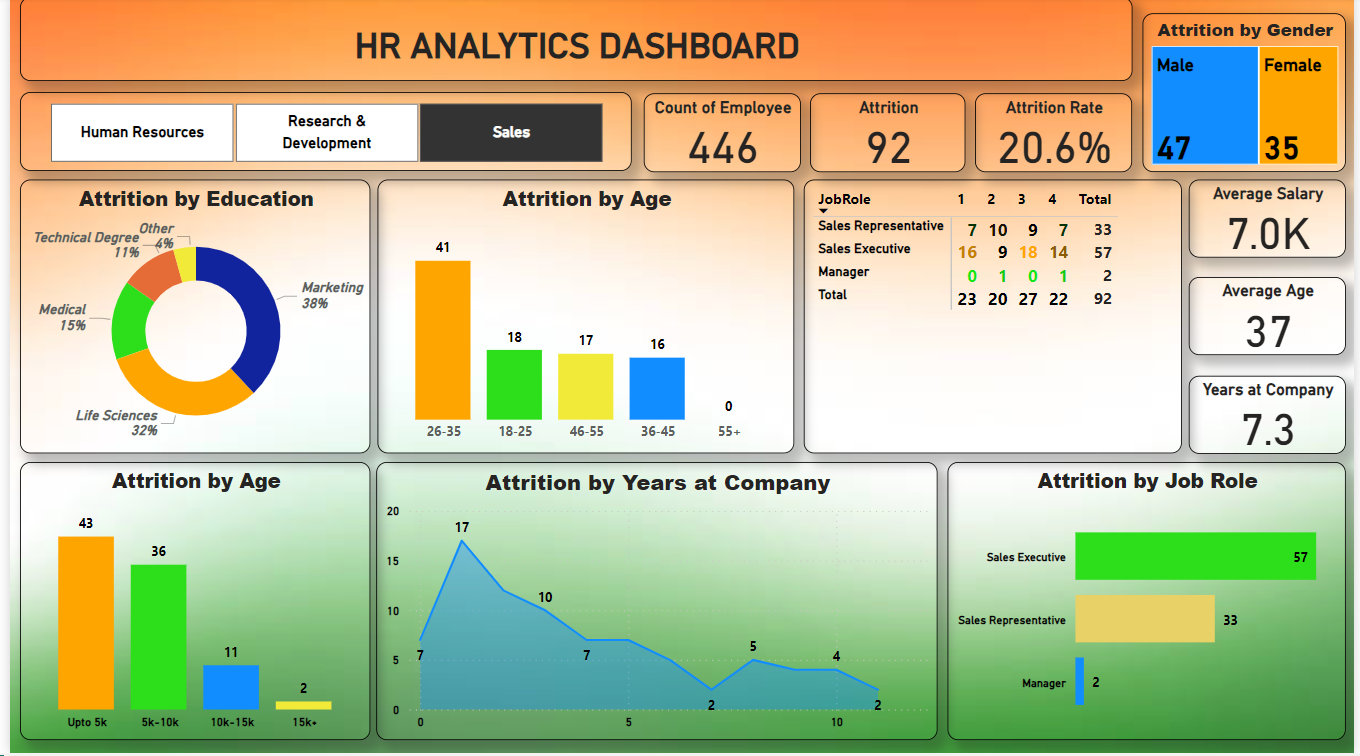

The page's visual inventory and layout, read from the dashboard file:
{"tool":"powerbi","page":{"name":"Page 1","canvas":[1280,720],"ordinal":0},"visuals":[{"type":"card","title":"Count of Employee","fields":{"Values":["CountNonNull(HR_Analytics.EmpID)"]},"box":[603.2,91.1,149.8,75.6],"z":0},{"type":"card","title":"Attrition","fields":{"Values":["Sum(HR_Analytics.AttritionCount)"]},"box":[761.2,91.1,148.4,75.6],"z":1000},{"type":"card","title":"Attrition Rate","fields":{"Values":["HR_Analytics.AttritionRate"]},"box":[919.2,91.1,149.8,75.6],"z":2000},{"type":"card","title":"Average Age","fields":{"Values":["Avg(HR_Analytics.Age)"]},"box":[1122.5,266.9,149.8,74.2],"z":3000},{"type":"card","title":"Average Salary","fields":{"Values":["Avg(HR_Analytics.MonthlyIncome)"]},"box":[1122.5,173.5,149.8,74.2],"z":4000},{"type":"card","title":"Years at Company","fields":{"Values":["Avg(HR_Analytics.YearsAtCompany)"]},"box":[1122.5,360.4,149.8,74.2],"z":5000},{"type":"donutChart","title":"Attrition by Education","fields":{"Category":["HR_Analytics.EducationField"],"Y":["Sum(HR_Analytics.AttritionCount)"]},"box":[10,173.5,333.9,261.1],"z":6000},{"type":"columnChart","title":"Attrition by Age","fields":{"Category":["HR_Analytics.AgeGroup"],"Y":["Sum(HR_Analytics.AttritionCount)"]},"box":[349.4,173.5,397.1,261.1],"z":7000},{"type":"pivotTable","fields":{"Rows":["HR_Analytics.JobRole"],"Columns":["HR_Analytics.JobSatisfaction"],"Values":["Sum(HR_Analytics.AttritionCount)"]},"box":[756.1,173.5,360,261.1],"z":8000},{"type":"columnChart","title":"Attrition by Age","fields":{"Category":["HR_Analytics.SalarySlab"],"Y":["Sum(HR_Analytics.AttritionCount)"]},"box":[9.6,442.8,333.9,265.2],"z":9000},{"type":"clusteredBarChart","title":"Attrition by Job Role","fields":{"Category":["HR_Analytics.JobRole"],"Y":["Sum(HR_Analytics.AttritionCount)"]},"box":[893.1,442.8,379.2,265.2],"z":10000},{"type":"areaChart","title":"Attrition by Years at Company","fields":{"Y":["Sum(HR_Analytics.AttritionCount)"],"Category":["HR_Analytics.YearsAtCompany"]},"box":[349,442.8,534.5,265.2],"z":11000},{"type":"treemap","title":"Attrition by Gender","fields":{"Group":["HR_Analytics.Gender"],"Values":["Sum(HR_Analytics.AttritionCount)"]},"box":[1078.6,15.1,193.7,151.1],"z":12000},{"type":"slicer","fields":{"Values":["HR_Analytics.Department"]},"box":[9.6,90.7,582.6,75.6],"z":13000},{"type":"textbox","box":[9.6,0,1059.3,79.7],"z":14000}]}

Visuals, with their boxes in screenshot pixels (x1, y1, x2, y2), scaled from the page's 1280x720 canvas onto the 1360x756 screenshot:
"Count of Employee" card: 641 96 800 175
"Attrition" card: 809 96 966 175
"Attrition Rate" card: 977 96 1136 175
"Average Age" card: 1193 280 1352 358
"Average Salary" card: 1193 182 1352 260
"Years at Company" card: 1193 378 1352 456
"Attrition by Education" donutChart: 11 182 365 456
"Attrition by Age" columnChart: 371 182 793 456
pivotTable - HR_Analytics.JobRole x HR_Analytics.JobSatisfaction: 803 182 1186 456
"Attrition by Age" columnChart: 10 465 365 743
"Attrition by Job Role" clusteredBarChart: 949 465 1352 743
"Attrition by Years at Company" areaChart: 371 465 939 743
"Attrition by Gender" treemap: 1146 16 1352 175
slicer - HR_Analytics.Department: 10 95 629 175
textbox: 10 0 1136 84
